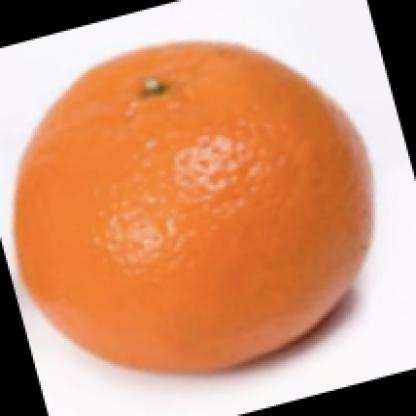orange: (5, 36, 376, 369)
